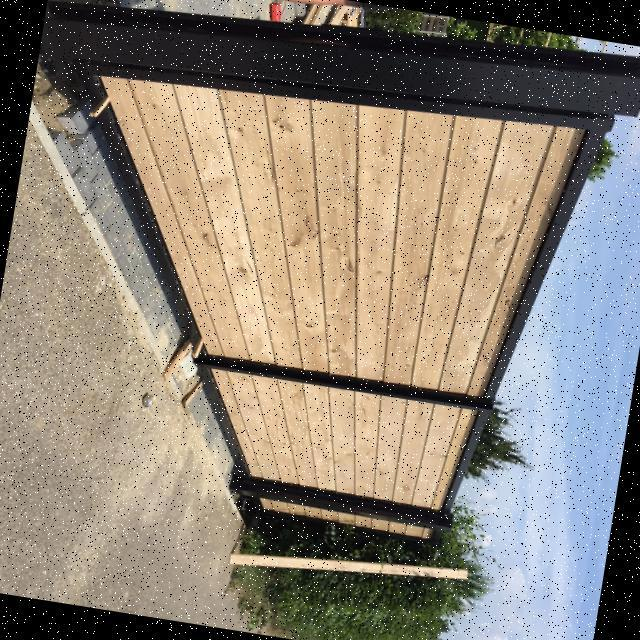fence line: (180, 72, 575, 581)
